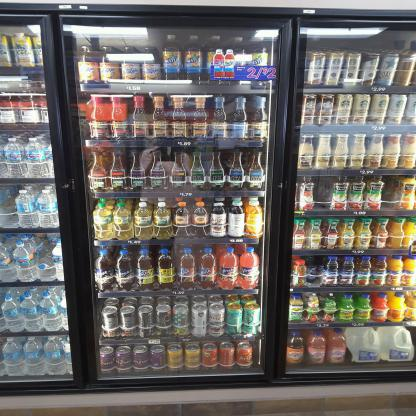Void: (313, 182, 333, 212), (384, 182, 400, 216)
